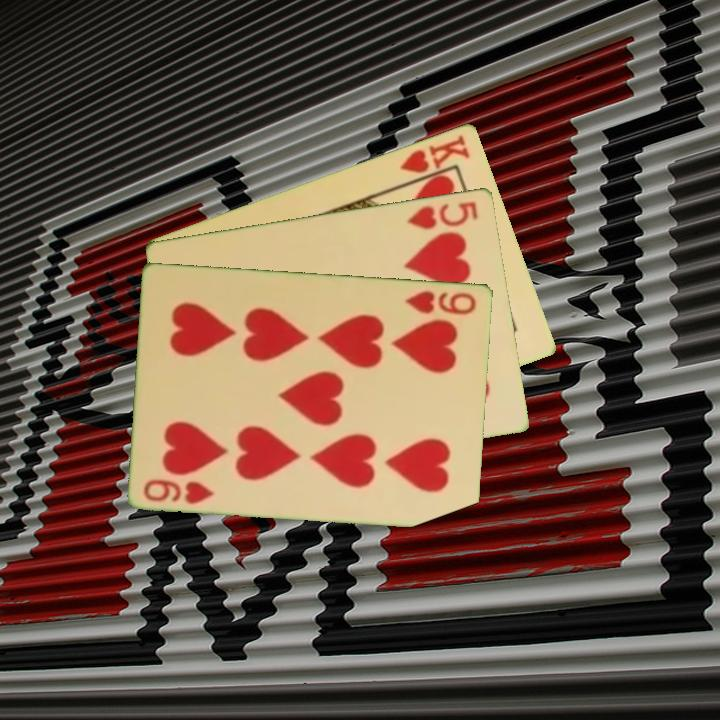5h: (404, 197, 482, 232)
9h: (140, 475, 217, 506), (402, 287, 479, 317)
Kh: (396, 130, 473, 187)
